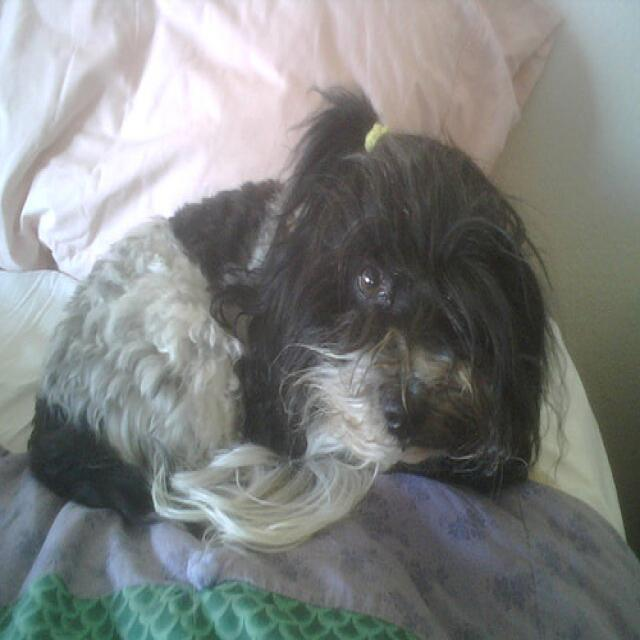dog-havanese: (19, 92, 553, 543)
